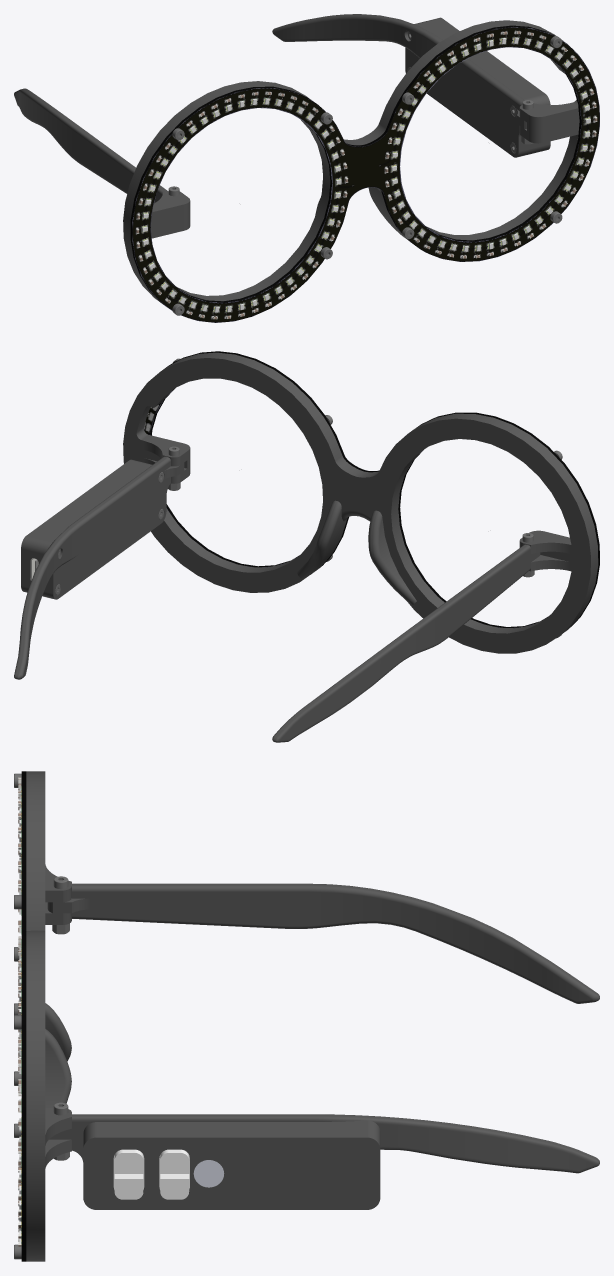
Rendered from lsg_glasses_3d_model_web_ani3.glb.
3 views of the same model, one above another, from view 1: azimuth 30°, elevation 25°; view 2: azimuth 150°, elevation 25°; view 3: azimuth 270°, elevation 25° (orthographic). The views are drawn at different scales.
Parts seen in each view (by area): view 1: Body1.048, Mainframe, Right_Temple_Fast_Display, Left_Temple, LogicPCB_Cover; view 2: Mainframe, Right_Temple_Fast_Display, Left_Temple, LogicPCB_Cover, Body1.048; view 3: LogicPCB_Cover, Left_Temple, Mainframe, Right_Temple_Fast_Display, Button_Membrane, Body1.048, StatusLED_Diffuser.
Part boxes in pixels (x1,y1,x2,y2): Body1.048: (130,25,599,322); Mainframe: (123,20,579,303); Right_Temple_Fast_Display: (272,14,528,157); Left_Temple: (14,88,167,203); LogicPCB_Cover: (419,17,550,154); Mainframe: (123,352,598,653); Right_Temple_Fast_Display: (14,456,184,679); Left_Temple: (272,544,540,742); LogicPCB_Cover: (21,459,152,596); Body1.048: (144,351,599,629); LogicPCB_Cover: (83,1123,380,1209); Left_Temple: (47,883,599,1003); Mainframe: (26,771,71,1261); Right_Temple_Fast_Display: (49,1114,599,1173); Button_Membrane: (113,1149,189,1199); Body1.048: (21,771,26,1261); StatusLED_Diffuser: (193,1160,224,1187).
Size of the model in its own units: 0.186 by 0.087 by 0.1539.
36 materials, 4 textured.
